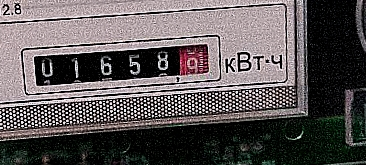0: (39, 55, 54, 78)
1: (69, 56, 81, 79)
5: (126, 51, 142, 76)
6: (97, 53, 113, 76)
8: (154, 48, 170, 71)
9: (183, 54, 198, 77)
screen: (14, 25, 230, 103)
